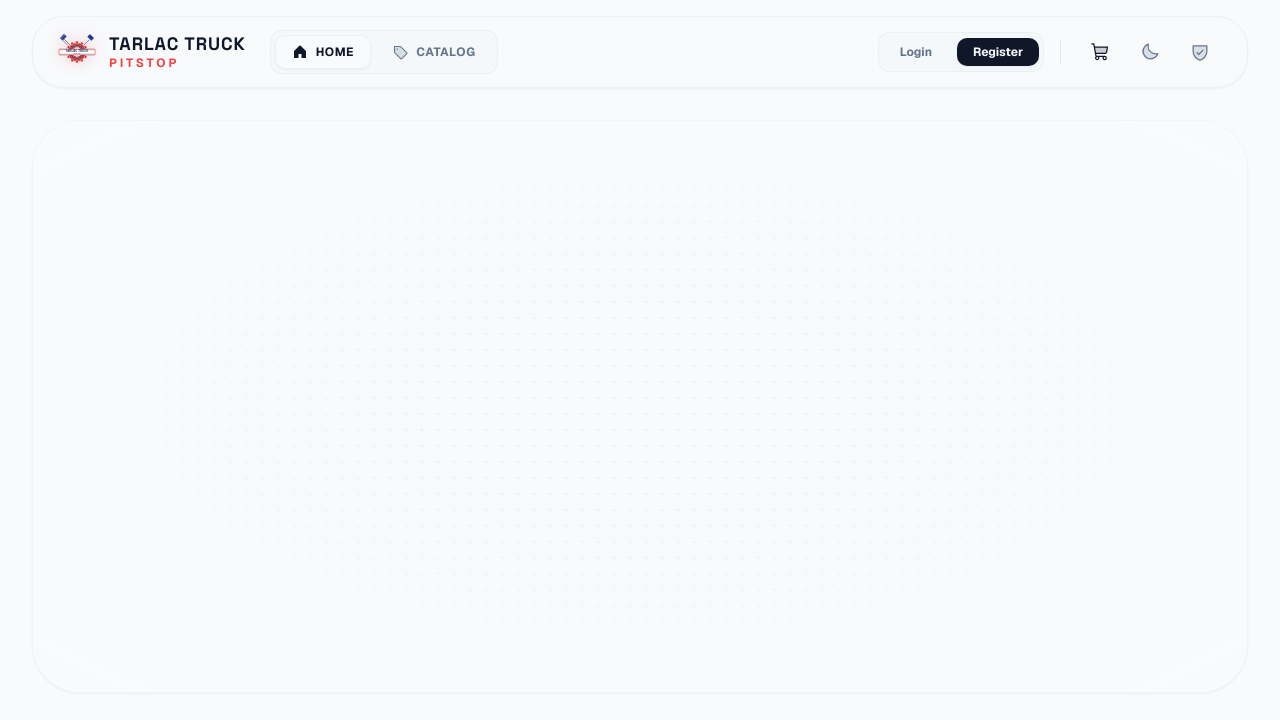
CustomerStorefront Component Tests › keeps catalog product cards factual with visible actions and no generated trust badges
Click the button "Catalog". click: click(434, 52)
box: [375,35,493,69]
(page scrolled)
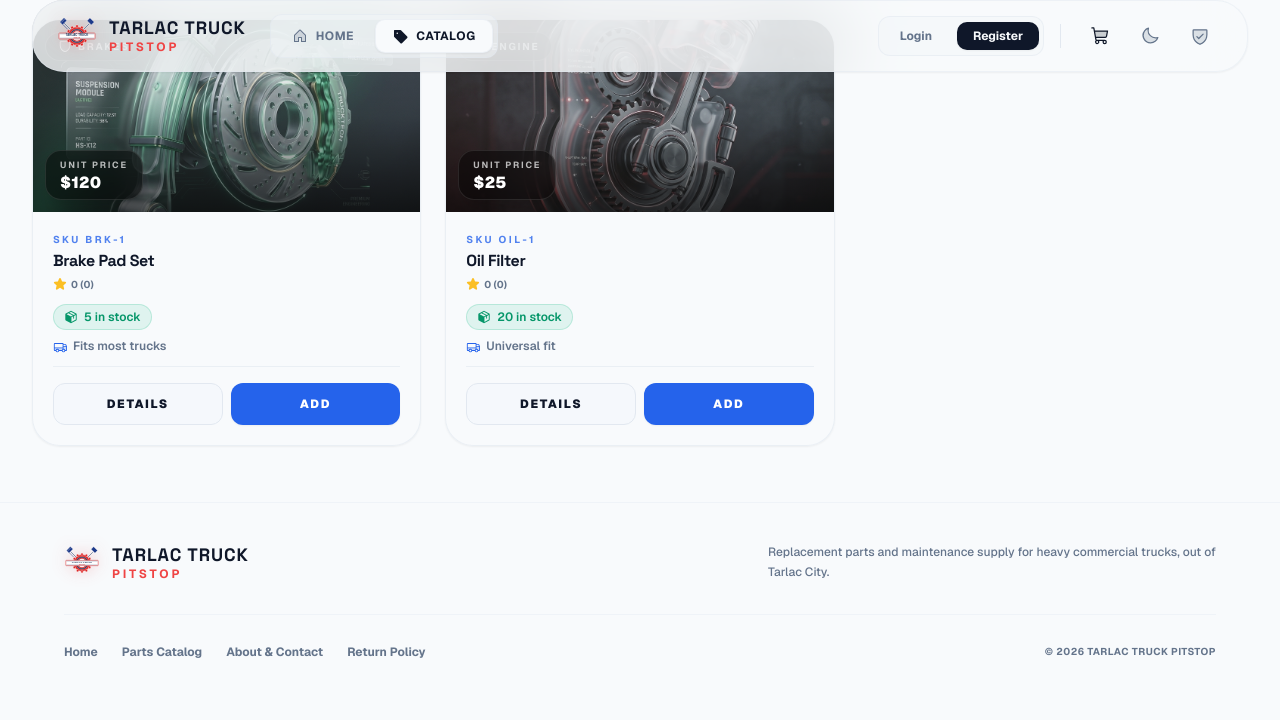
Check: the text "SKU BRK-1" is shown, box [53,232,126,246]
Check: the text "Fits most trucks" is shown, box [73,338,166,354]
Check: the button "Details" below "Fits most trucks" is shown, box [53,383,223,425]
